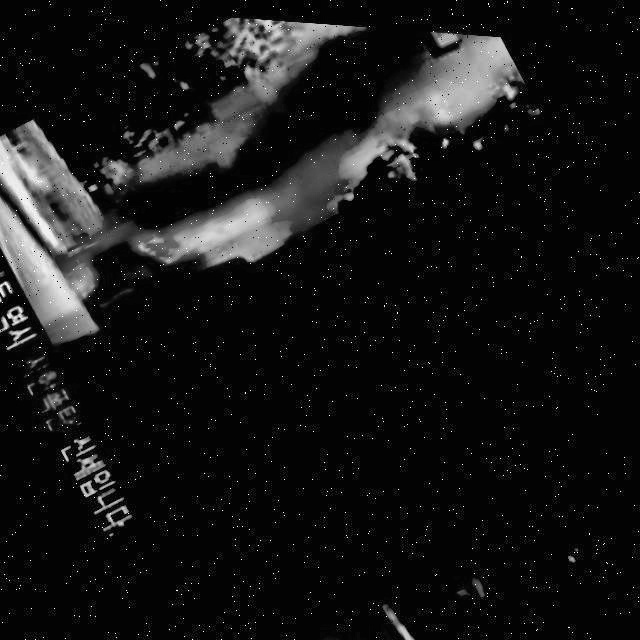Fire: (133, 183, 254, 288), (58, 245, 118, 310)
Smoke: (175, 11, 482, 254)
